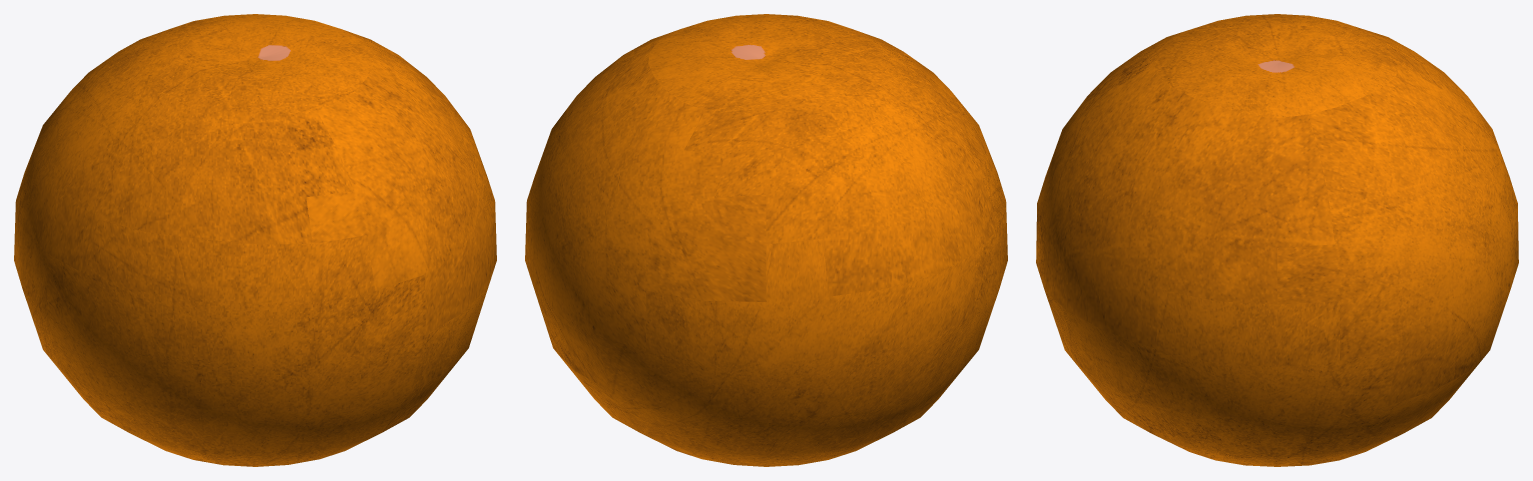
The model's file is AranciaBad.fbx.
The picture shows the model from 3 angles, left to right: view 1: azimuth 30°, elevation 25°; view 2: azimuth 150°, elevation 25°; view 3: azimuth 270°, elevation 25°; orthographic projection.
Parts seen in each view (by area): view 1: Arancia.001; view 2: Arancia.001; view 3: Arancia.001.
Part boxes in pixels (left/top/right/bottom): Arancia.001: left=14, top=14, right=496, bottom=466; Arancia.001: left=525, top=14, right=1007, bottom=466; Arancia.001: left=1036, top=14, right=1518, bottom=466.
Bounding box in the file's own units: 201 × 175 × 201.
